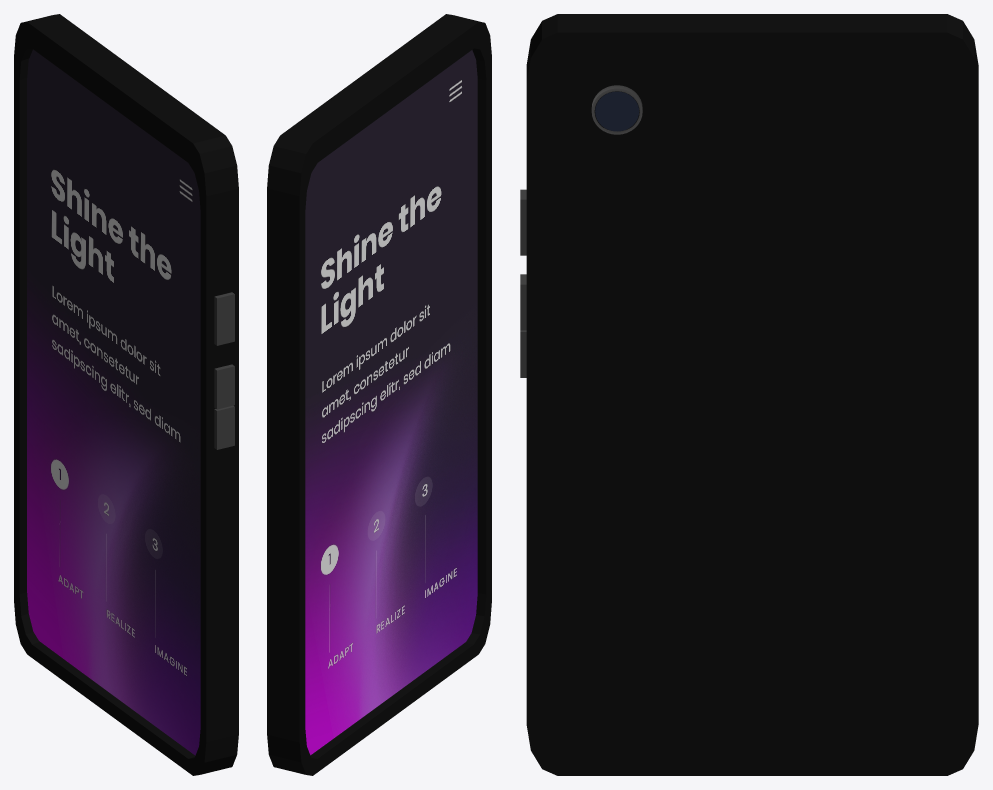
Rendered from phone.gltf.
The picture shows the model from 3 angles, left to right: view 1: azimuth 30°, elevation 25°; view 2: azimuth 150°, elevation 25°; view 3: azimuth 270°, elevation 25°; orthographic projection. The views are drawn at different scales.
Parts seen in each view (by area): view 1: Phone; view 2: Phone; view 3: Phone.
Boxes of the visible parts, <box> form: Phone: <box>14,14,238,775</box>; Phone: <box>267,14,491,775</box>; Phone: <box>520,14,978,775</box>.
Bounding box in the file's own units: 0.2074 × 3.26 × 1.82.
5 materials, 1 textured.
